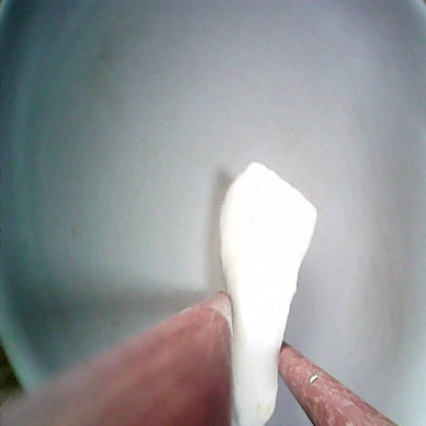white_chinese-yam: (219, 156, 326, 426)
